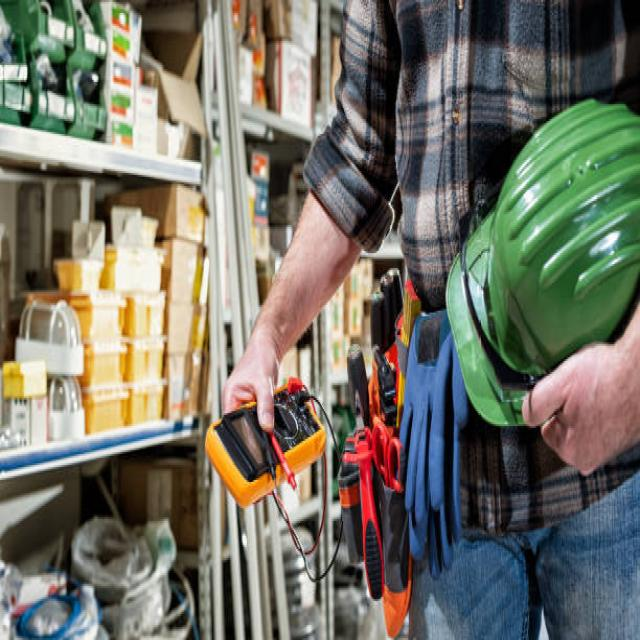gloves: (398, 305, 470, 582)
